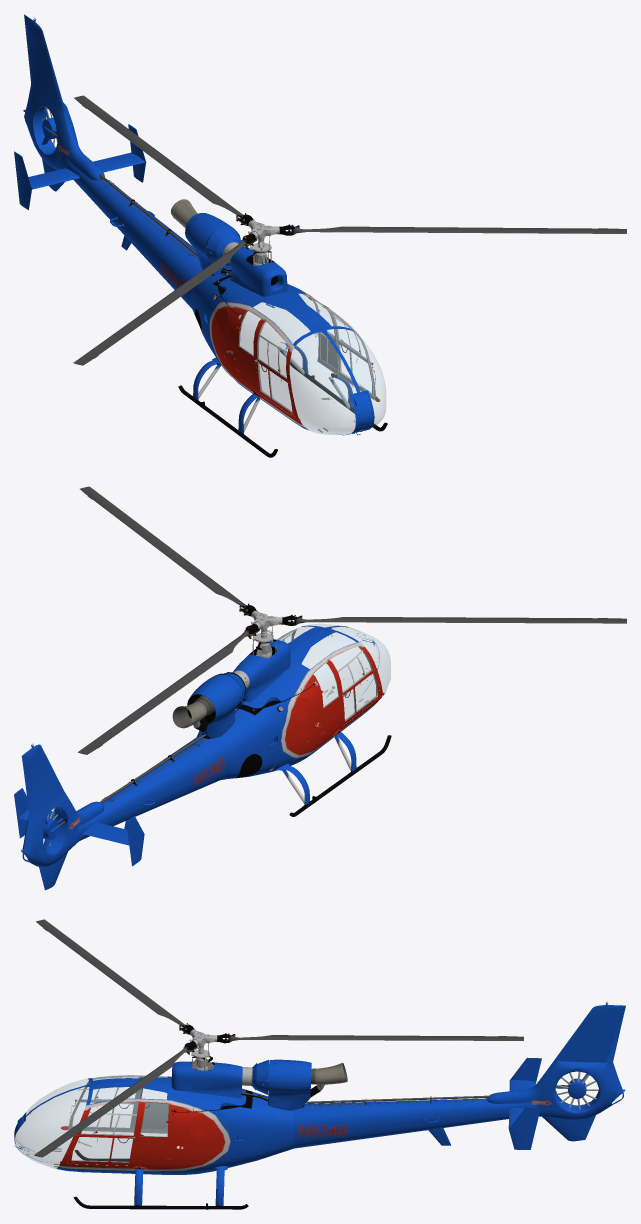
File: gazelle.glb
The picture shows the model from 3 angles, top to bottom: view 1: azimuth 30°, elevation 25°; view 2: azimuth 150°, elevation 25°; view 3: azimuth 270°, elevation 25°; orthographic projection. The views are drawn at different scales.
Visible parts, largest first — view 1: fuselage; view 2: fuselage; view 3: fuselage.
Part boxes in pixels (left/top/right/bottom): fuselage: left=14, top=14, right=626, bottom=457; fuselage: left=14, top=486, right=626, bottom=890; fuselage: left=14, top=919, right=626, bottom=1209.
Bounding box in the file's own units: 9.76 × 3.56 × 10.62.
Materials: 5 (1 with a texture image).
